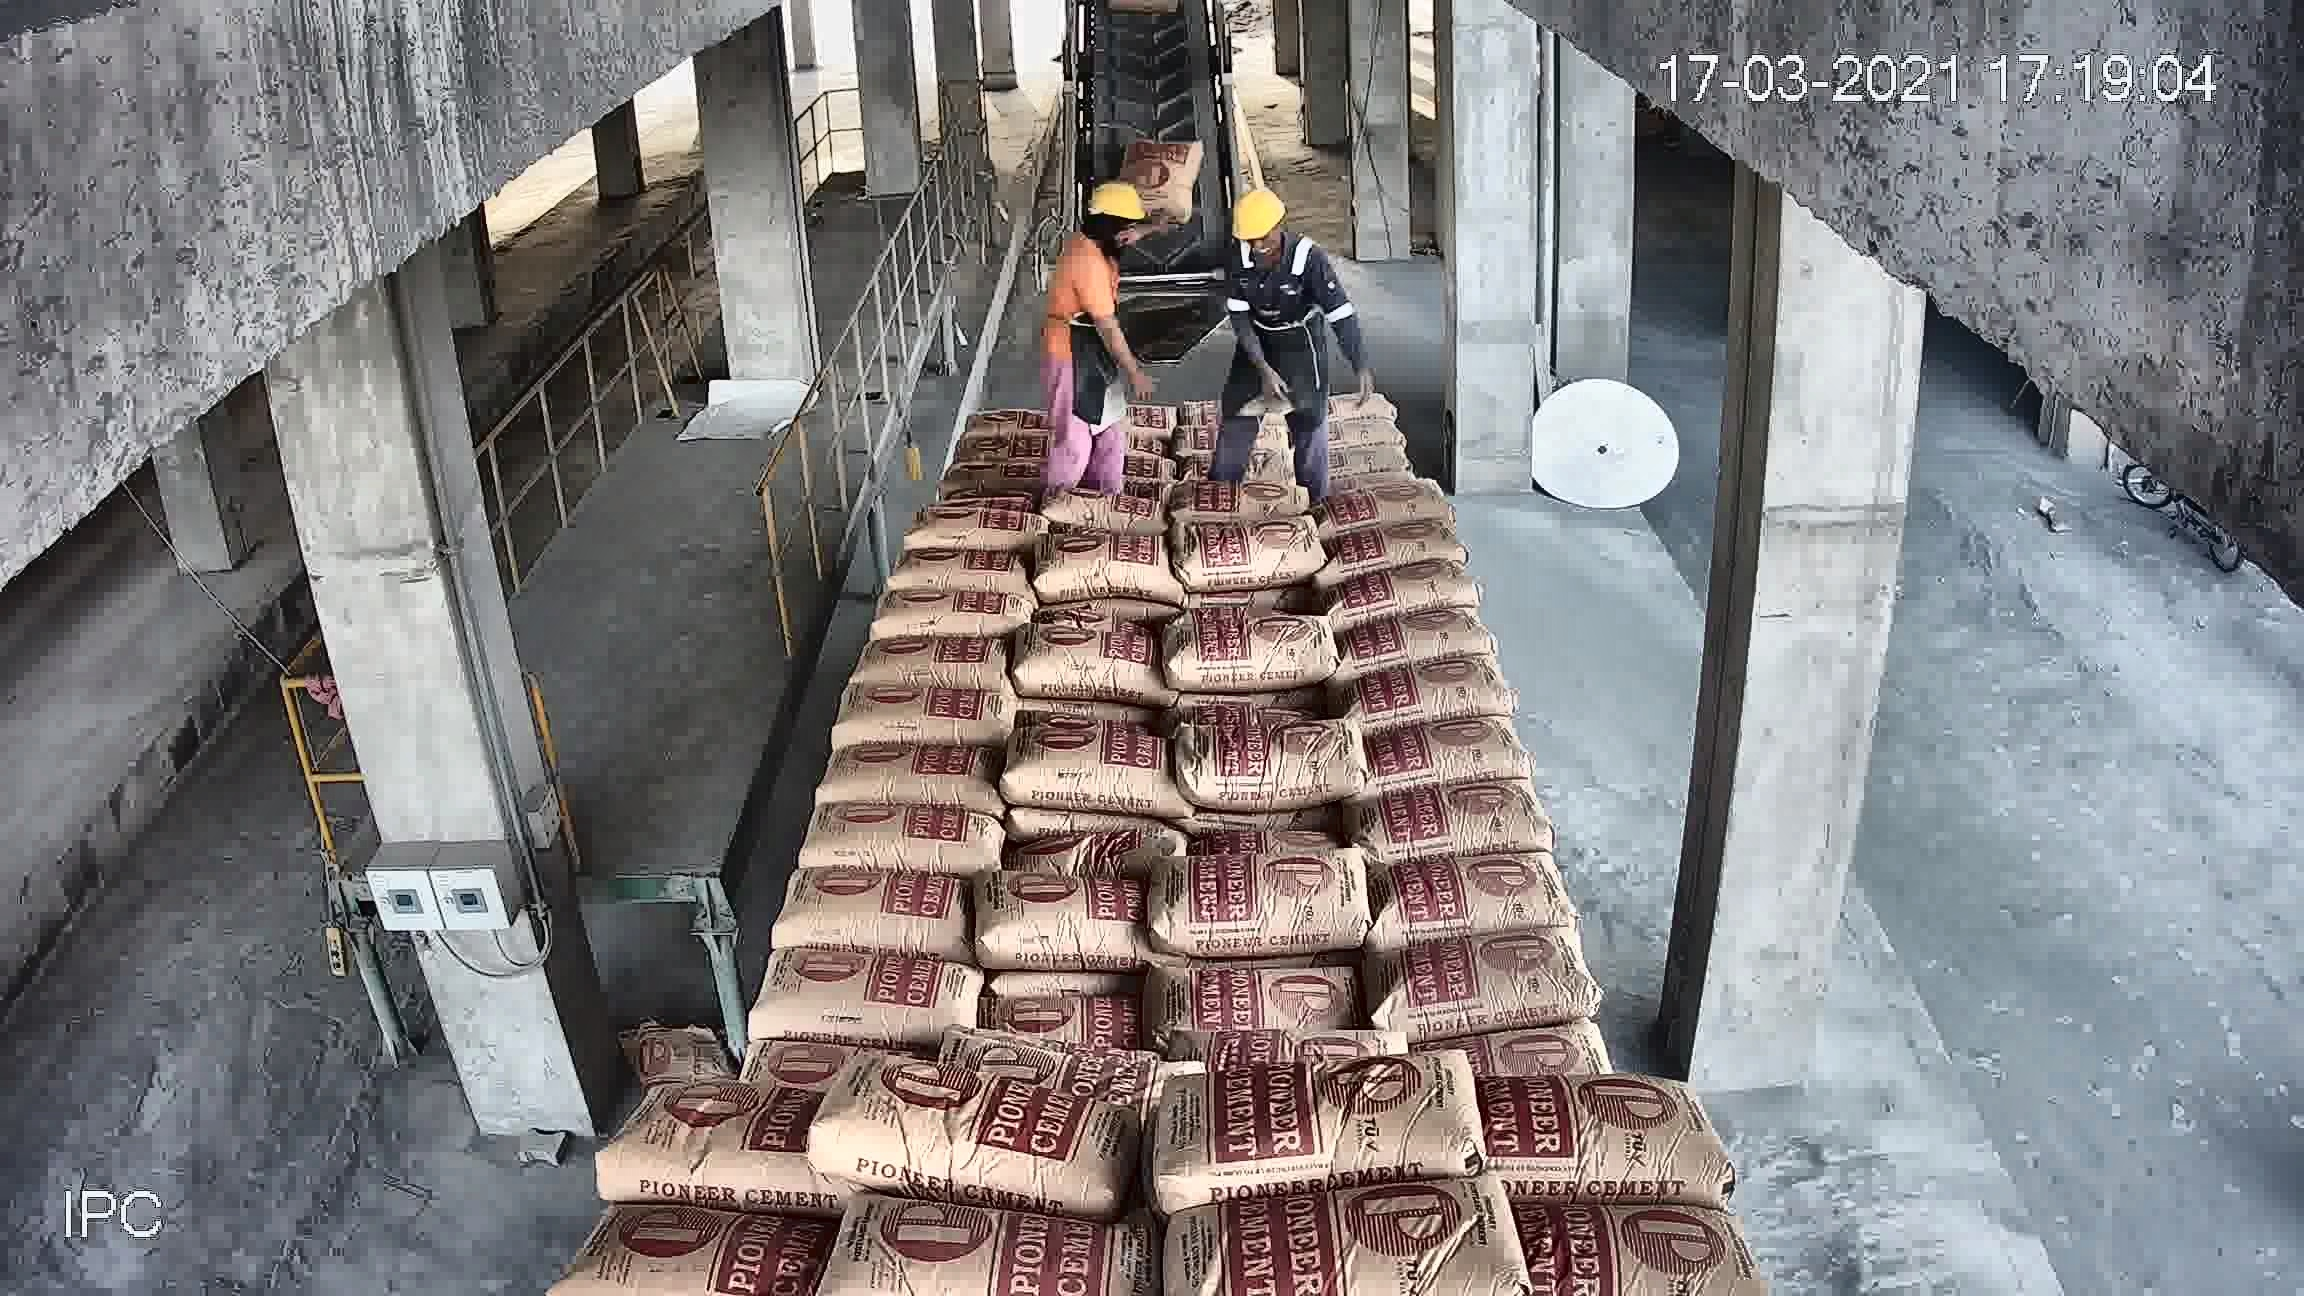bag: (1119, 135, 1203, 220)
bag_h: (1139, 1054, 1483, 1206), (809, 1033, 1131, 1179), (1158, 1179, 1514, 1293), (1465, 1060, 1715, 1207), (817, 1207, 1173, 1294), (1381, 907, 1593, 1040), (737, 932, 994, 1041), (592, 1082, 813, 1206), (1150, 847, 1372, 967), (1499, 1207, 1764, 1294), (548, 1203, 801, 1290), (1361, 847, 1568, 938), (745, 864, 968, 946), (1177, 717, 1366, 812), (1165, 604, 1347, 703), (995, 725, 1188, 817), (801, 790, 1019, 870), (983, 869, 1139, 981), (1370, 766, 1559, 858), (1152, 942, 1362, 1022), (1351, 641, 1525, 734), (815, 673, 1032, 745), (805, 733, 1010, 805), (1315, 544, 1473, 638), (918, 1029, 1179, 1082), (1192, 1021, 1423, 1081), (1364, 717, 1529, 799), (1163, 516, 1321, 601), (847, 623, 1002, 707), (1030, 527, 1188, 604), (1014, 619, 1165, 699), (1434, 1017, 1612, 1084), (1315, 503, 1470, 579), (856, 584, 1033, 646), (949, 976, 1157, 1027), (902, 486, 1051, 548), (1332, 616, 1487, 673), (1033, 818, 1179, 873), (1036, 476, 1179, 532), (1317, 472, 1454, 522), (1177, 479, 1324, 525), (896, 538, 1022, 590), (929, 441, 1041, 489), (927, 475, 1041, 514), (1310, 437, 1419, 472), (1329, 407, 1407, 453), (937, 435, 1048, 460), (1328, 375, 1394, 416), (959, 411, 1049, 441), (1130, 394, 1196, 432)
belt: (1071, 24, 1271, 359)
